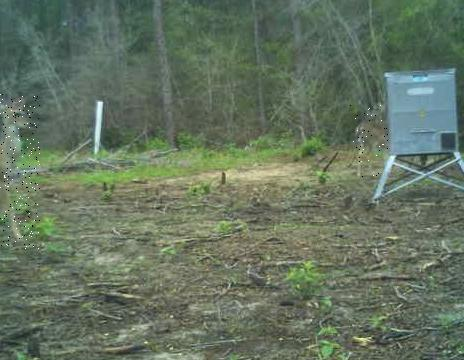Deer: (0, 94, 40, 249), (350, 106, 389, 182)
